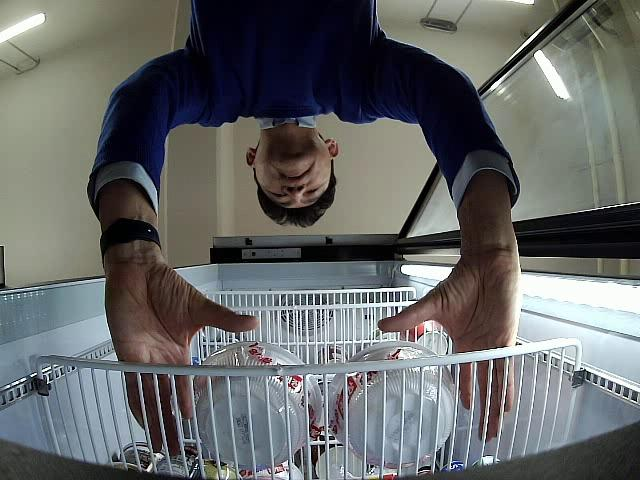00_hand: (105, 258, 261, 457), (378, 248, 523, 442)
09_yukGaeJang: (328, 340, 459, 468), (194, 343, 322, 466)
